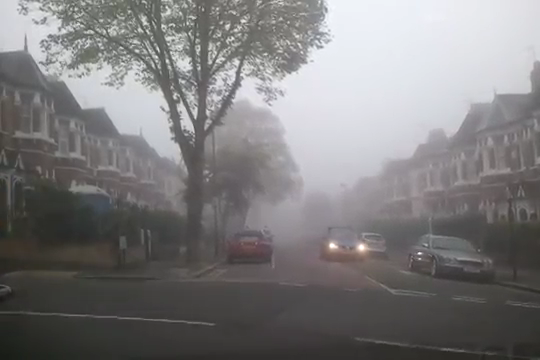car: (406, 233, 497, 285), (318, 224, 369, 262), (225, 229, 276, 266), (354, 231, 389, 261)
